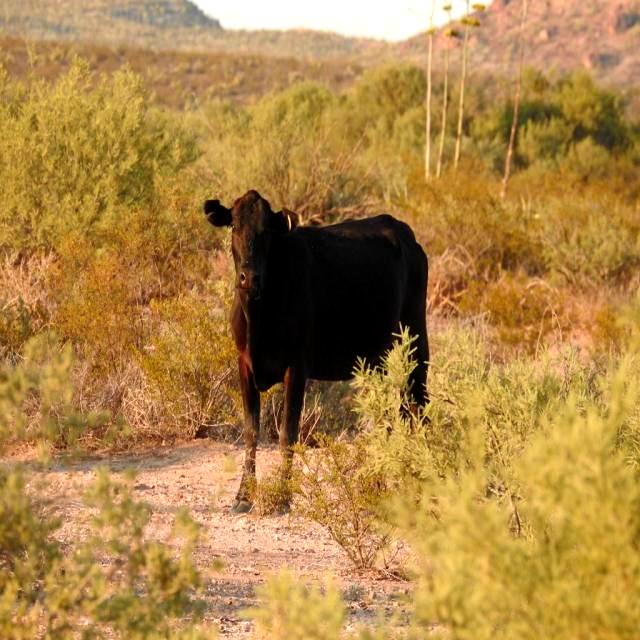COW: (205, 190, 429, 510)
